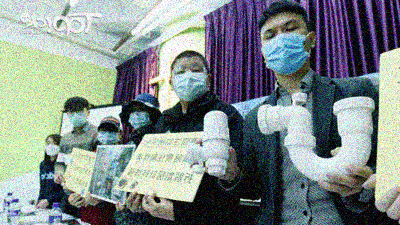with_mask: (260, 17, 308, 74), (170, 61, 208, 102), (127, 107, 150, 132), (67, 107, 87, 129), (98, 127, 119, 145), (45, 139, 59, 158)
